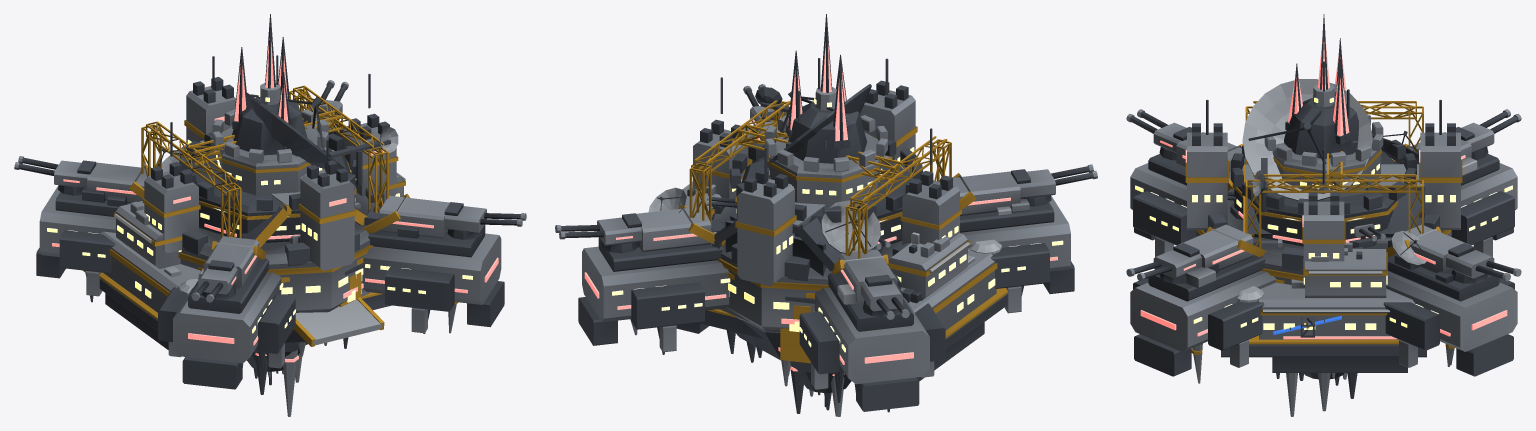
File: installations.glb
3 renders of one model, left to right at view 1: azimuth 30°, elevation 25°; view 2: azimuth 150°, elevation 25°; view 3: azimuth 270°, elevation 25°, orthographic. The views are drawn at different scales.
Visible parts, largest first — view 1: inst_hq, inst_yard, inst_def, spin_comm_r, spin_hq_r, inst_relay; view 2: inst_hq, inst_yard, inst_def, spin_comm_r, inst_relay, spin_hq_r; view 3: inst_hq, inst_yard, spin_comm_r, inst_def, inst_relay, spin_hq_r.
Boxes of the visible parts, x1,y1,x2,y2 form: inst_hq: (14,14,526,416); inst_yard: (99,85,405,349); inst_def: (182,147,384,378); spin_comm_r: (245,92,344,169); spin_hq_r: (328,127,398,157); inst_relay: (258,55,280,385); inst_hq: (555,14,1097,416); inst_yard: (648,100,1007,381); inst_def: (706,195,909,410); spin_comm_r: (763,84,871,167); inst_relay: (814,58,836,407); spin_hq_r: (755,87,789,112); inst_hq: (1126,14,1521,416); inst_yard: (1221,101,1426,372); spin_comm_r: (1242,79,1372,200); inst_def: (1208,171,1439,385); inst_relay: (1273,61,1341,337); spin_hq_r: (1253,158,1267,196).
Bounding box in the file's own units: 14.57 × 16.29 × 14.57.
